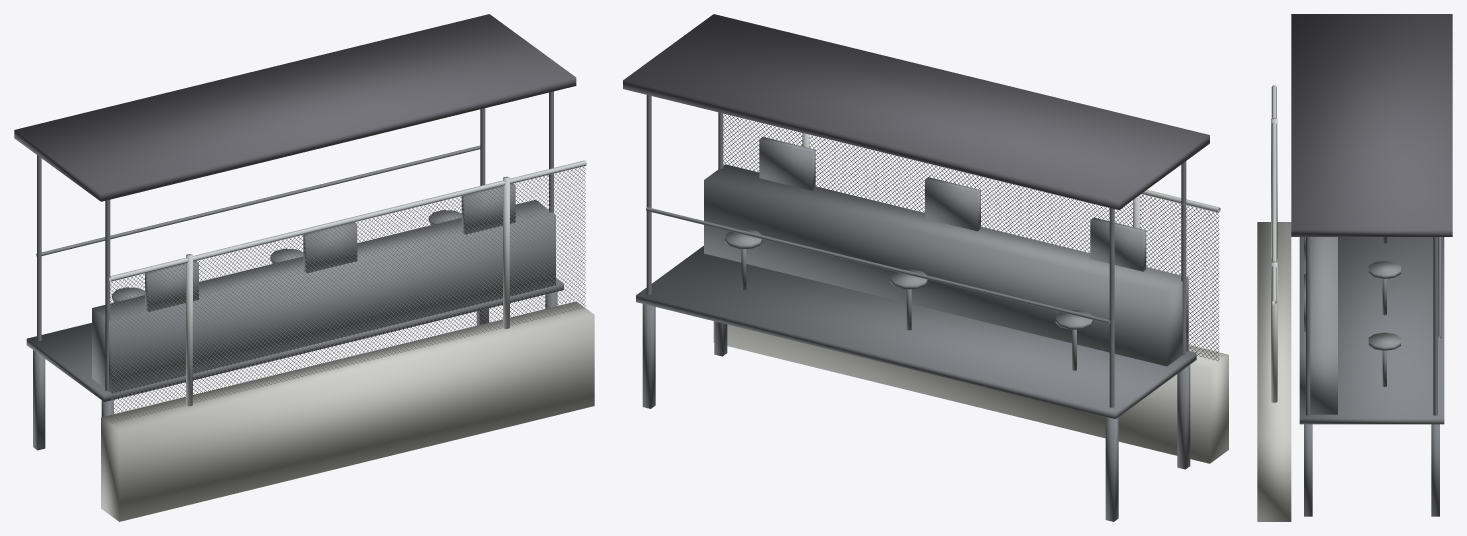
Rendered from pit_wall_6m.glb.
3 renders of one model, left to right at view 1: azimuth 30°, elevation 25°; view 2: azimuth 150°, elevation 25°; view 3: azimuth 270°, elevation 25°, orthographic. The views are drawn at different scales.
Visible parts, largest first — view 1: pit_wall_6m; view 2: pit_wall_6m; view 3: pit_wall_6m.
Boxes of the visible parts, <box> form: pit_wall_6m: <box>14,14,594,521</box>; pit_wall_6m: <box>623,14,1228,521</box>; pit_wall_6m: <box>1257,14,1452,521</box>.
Size of the model in its own units: 6 by 3.8 by 2.3.
6 materials, 1 textured.
